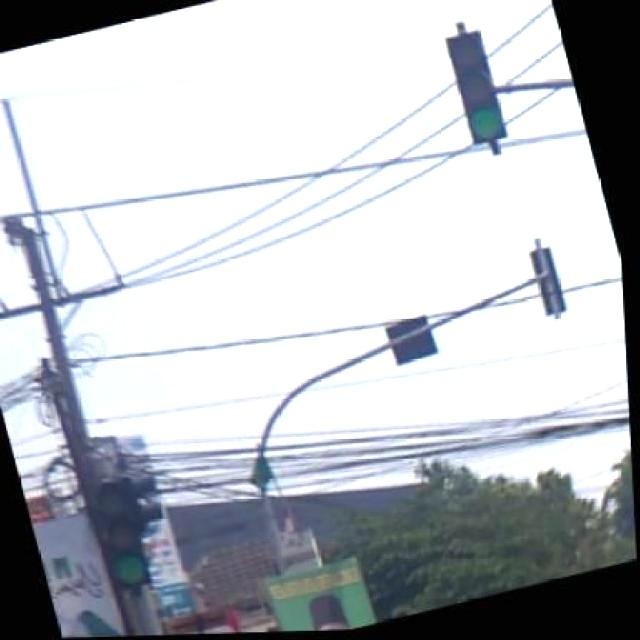Green: (443, 31, 516, 150), (80, 478, 153, 590)
